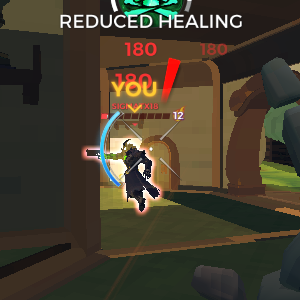model: (98, 134, 162, 217)
